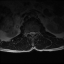CCS_normal: (31, 30, 33, 38)
LFS_normal: (35, 30, 37, 36)
LLS_normal: (33, 30, 35, 36)
RFS_normal: (27, 31, 29, 35)
RLS_normal: (29, 30, 31, 36)
